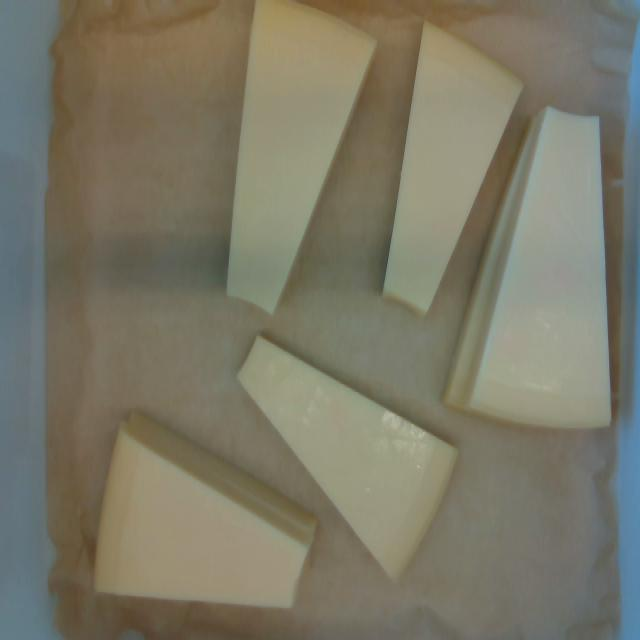cheese: (239, 337, 455, 577), (229, 0, 374, 309), (469, 111, 608, 424), (383, 23, 521, 309), (94, 429, 308, 608)
